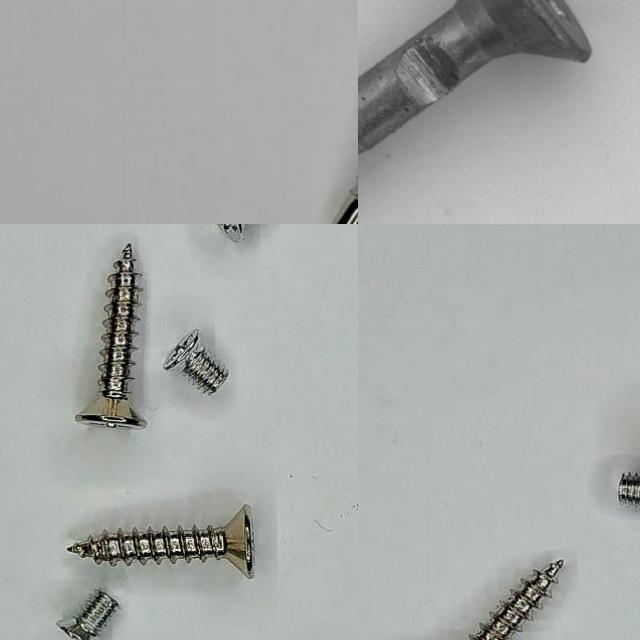Screw: (358, 0, 622, 224), (67, 506, 254, 580), (74, 243, 147, 429), (468, 560, 562, 640), (163, 330, 228, 396), (56, 590, 119, 640), (617, 474, 640, 508)
